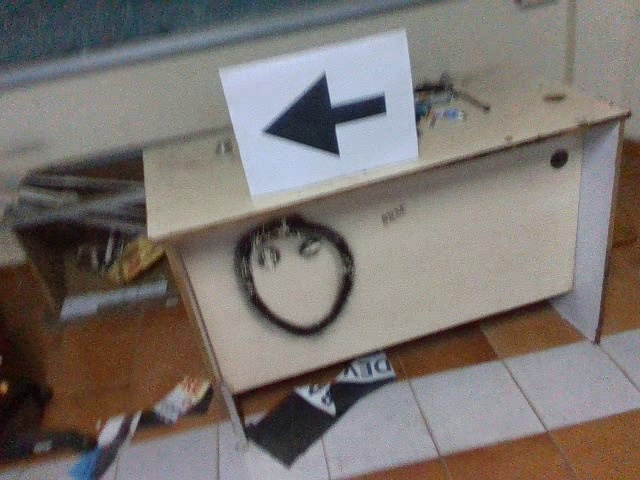Left: (254, 65, 390, 161)
